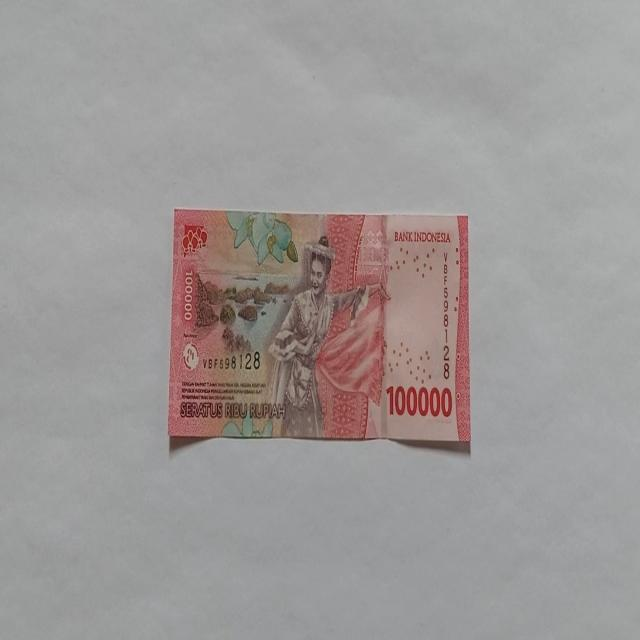seratus ribu rupiah: (167, 208, 471, 446), (266, 234, 370, 438)
